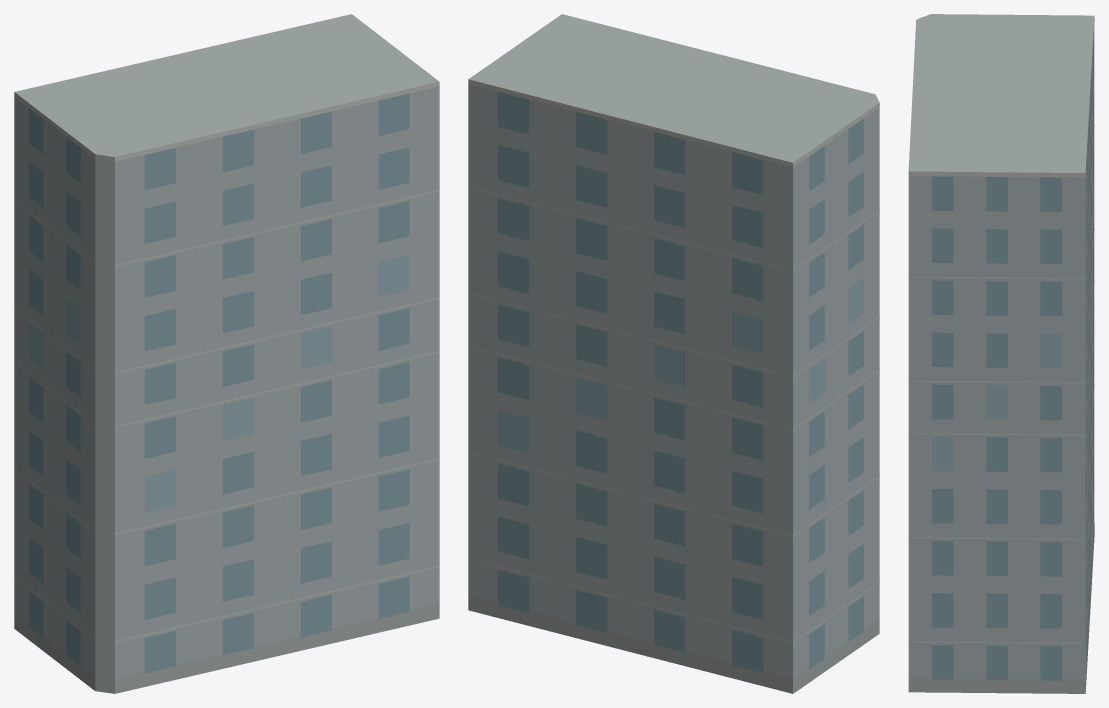
The model's file is survey-upis-33005729.glb.
3 views of the same model, side by side, from view 1: azimuth 30°, elevation 25°; view 2: azimuth 150°, elevation 25°; view 3: azimuth 270°, elevation 25° (orthographic). The views are drawn at different scales.
Visible parts, largest first — view 1: survey-upis-33005729.tmp; view 2: survey-upis-33005729.tmp; view 3: survey-upis-33005729.tmp.
Part boxes in pixels (x1,y1,x2,y2): survey-upis-33005729.tmp: (14, 14, 439, 693); survey-upis-33005729.tmp: (468, 14, 879, 693); survey-upis-33005729.tmp: (908, 14, 1094, 693).
Bounding box in the file's own units: 18.44 × 28.1 × 9.12.
